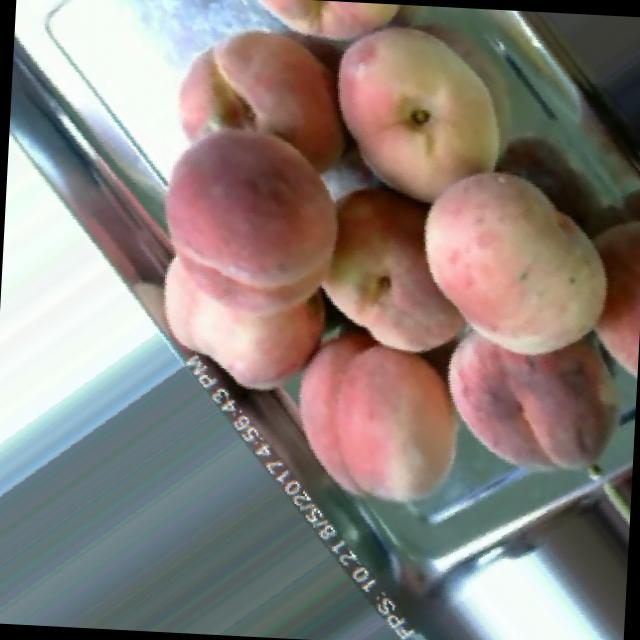Fruit: (140, 10, 383, 316), (381, 132, 640, 394), (304, 0, 539, 234), (416, 313, 640, 502), (266, 332, 482, 522), (125, 236, 349, 414)
